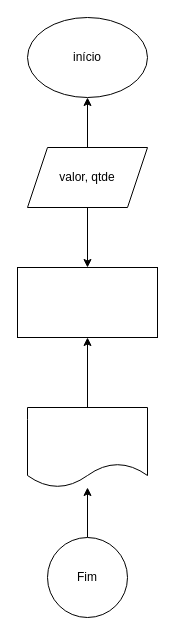
Some shapes in this 175 by 635 pixel diagram are drawn without their labels. Each missing label, with the box of its shape:
comissão: (26, 406, 148, 488)
venda = valor*qtde Comissão = venda 5*100: (16, 266, 158, 338)
